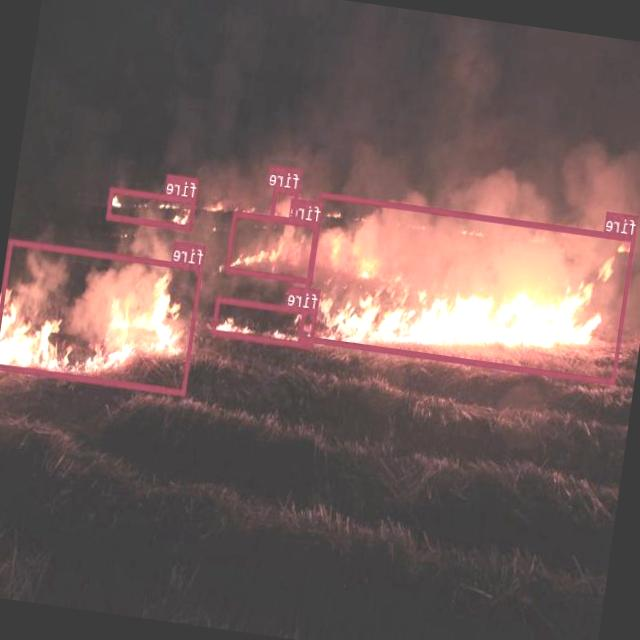fire: (299, 192, 636, 384), (0, 239, 203, 395), (226, 210, 322, 284), (212, 296, 318, 349), (107, 186, 198, 231), (271, 186, 299, 223)
